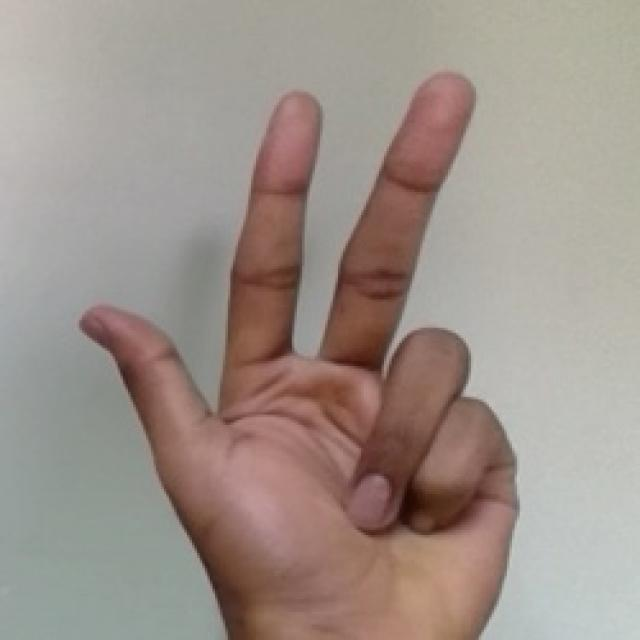Numeric-3: (72, 65, 517, 612)
